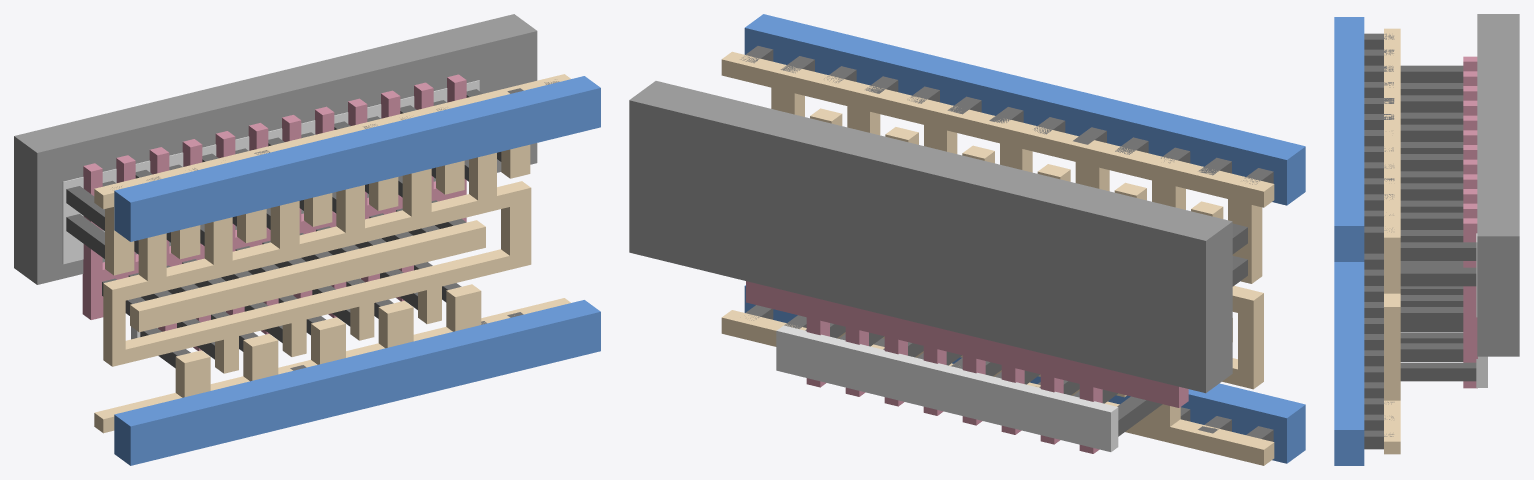
The model's file is sky130_fd_sc_hd__clkinv_8.gds.gltf.
3 views of the same model, side by side, from view 1: azimuth 30°, elevation 25°; view 2: azimuth 150°, elevation 25°; view 3: azimuth 270°, elevation 25° (orthographic). The views are drawn at different scales.
Visible parts, largest first — view 1: sky130_fd_sc_hd__clkinv_8_li1, sky130_fd_sc_hd__clkinv_8_met1, sky130_fd_sc_hd__clkinv_8_nwell, sky130_fd_sc_hd__clkinv_8_poly, sky130_fd_sc_hd__clkinv_8_licon, sky130_fd_sc_hd__clkinv_8_diff; view 2: sky130_fd_sc_hd__clkinv_8_nwell, sky130_fd_sc_hd__clkinv_8_li1, sky130_fd_sc_hd__clkinv_8_met1, sky130_fd_sc_hd__clkinv_8_diff, sky130_fd_sc_hd__clkinv_8_poly, sky130_fd_sc_hd__clkinv_8_mcon, sky130_fd_sc_hd__clkinv_8_licon; view 3: sky130_fd_sc_hd__clkinv_8_licon, sky130_fd_sc_hd__clkinv_8_nwell, sky130_fd_sc_hd__clkinv_8_met1, sky130_fd_sc_hd__clkinv_8_mcon, sky130_fd_sc_hd__clkinv_8_li1, sky130_fd_sc_hd__clkinv_8_poly, sky130_fd_sc_hd__clkinv_8_diff.
Part boxes in pixels (x1,y1,x2,y2): sky130_fd_sc_hd__clkinv_8_li1: [94, 74, 570, 433]; sky130_fd_sc_hd__clkinv_8_met1: [114, 76, 600, 465]; sky130_fd_sc_hd__clkinv_8_nwell: [14, 14, 537, 284]; sky130_fd_sc_hd__clkinv_8_poly: [82, 74, 466, 350]; sky130_fd_sc_hd__clkinv_8_licon: [66, 89, 501, 368]; sky130_fd_sc_hd__clkinv_8_diff: [62, 80, 479, 339]; sky130_fd_sc_hd__clkinv_8_nwell: [629, 81, 1232, 393]; sky130_fd_sc_hd__clkinv_8_li1: [721, 51, 1274, 465]; sky130_fd_sc_hd__clkinv_8_met1: [744, 14, 1305, 463]; sky130_fd_sc_hd__clkinv_8_diff: [776, 325, 1118, 451]; sky130_fd_sc_hd__clkinv_8_poly: [746, 281, 1188, 453]; sky130_fd_sc_hd__clkinv_8_mcon: [740, 46, 1273, 441]; sky130_fd_sc_hd__clkinv_8_licon: [805, 223, 1247, 436]; sky130_fd_sc_hd__clkinv_8_licon: [1400, 65, 1476, 381]; sky130_fd_sc_hd__clkinv_8_nwell: [1477, 14, 1519, 356]; sky130_fd_sc_hd__clkinv_8_met1: [1334, 17, 1364, 465]; sky130_fd_sc_hd__clkinv_8_mcon: [1364, 33, 1394, 449]; sky130_fd_sc_hd__clkinv_8_li1: [1384, 28, 1400, 454]; sky130_fd_sc_hd__clkinv_8_poly: [1463, 56, 1477, 388]; sky130_fd_sc_hd__clkinv_8_diff: [1476, 233, 1487, 387].
Size of the model in its own units: 6.36 by 3.2 by 2.24.
